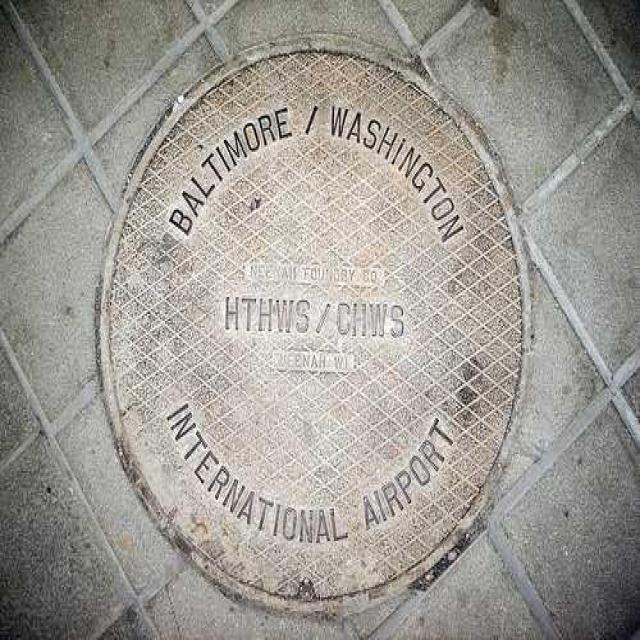manhole: (96, 48, 547, 623)
